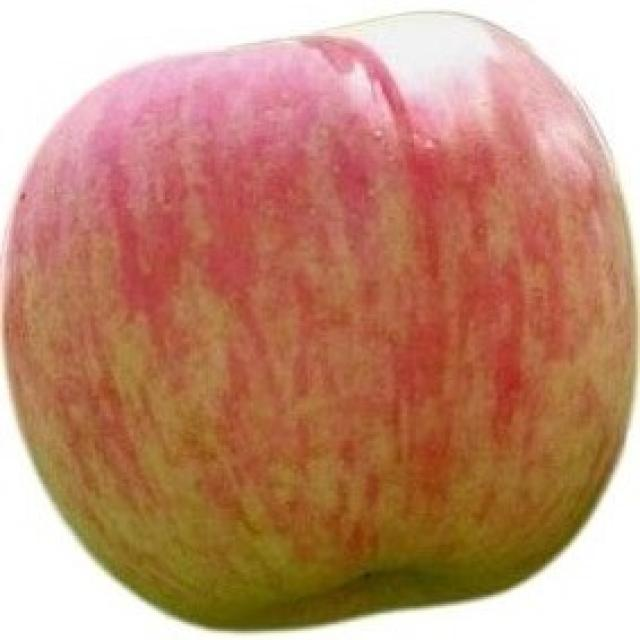75-_ripeness: (11, 11, 632, 634)
